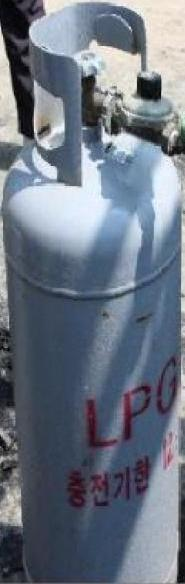cylinder: (0, 1, 185, 584)
